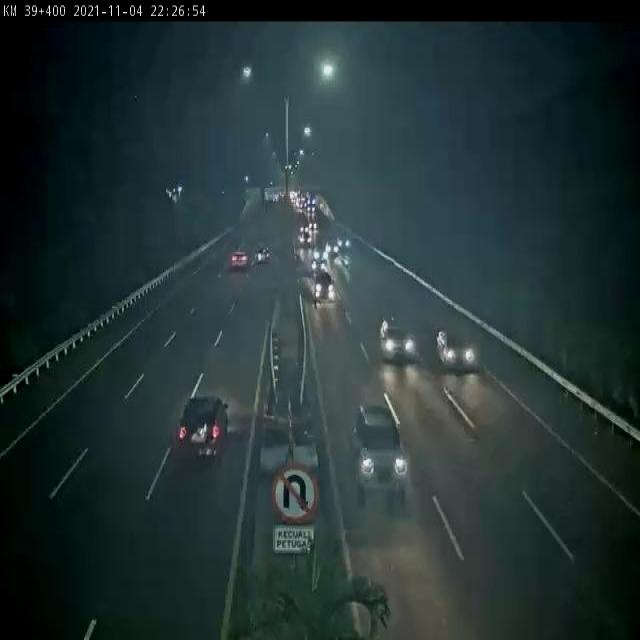Car: (350, 402, 409, 506), (176, 394, 230, 460), (436, 328, 480, 372), (379, 318, 417, 364), (314, 270, 336, 302), (230, 253, 249, 271), (312, 245, 327, 264)
Truck: (306, 197, 316, 214)
